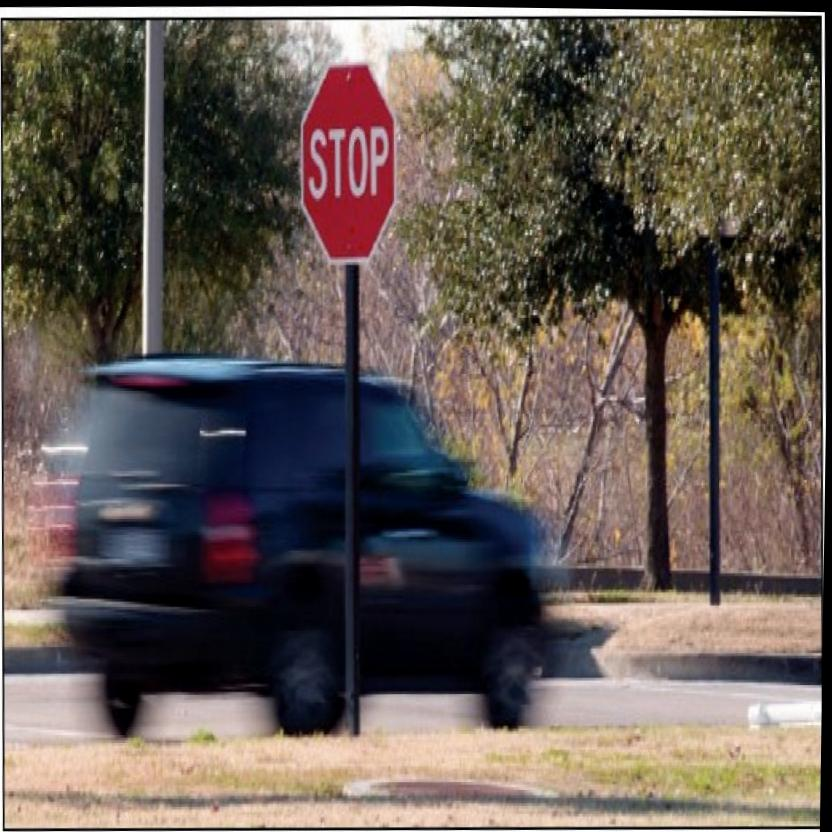Pole: (339, 264, 370, 735), (707, 301, 726, 600)
Sign: (297, 57, 401, 260)
